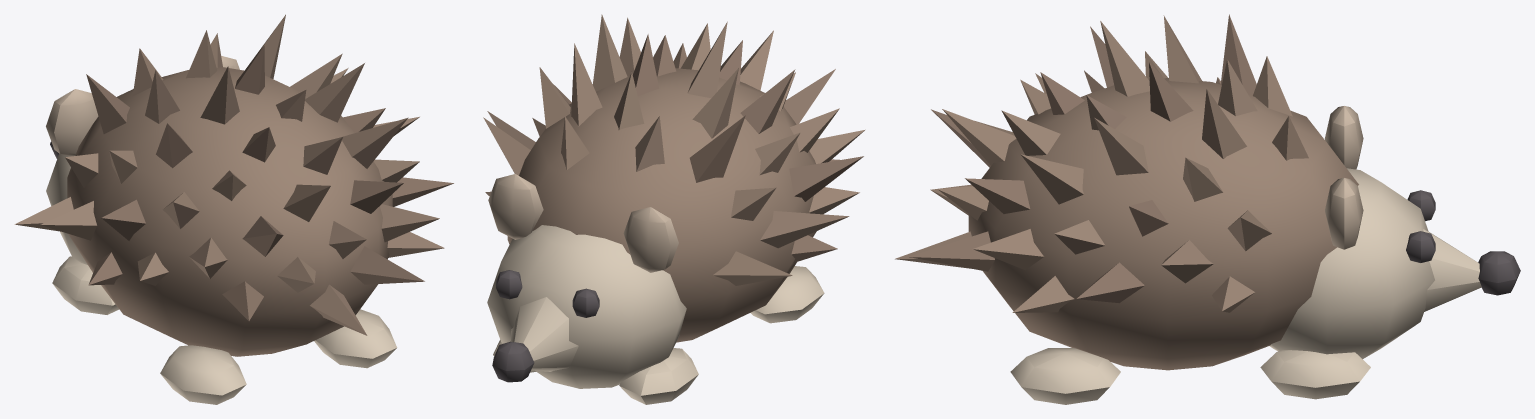
File: hedgehog.gltf
3 renders of one model, left to right at view 1: azimuth 30°, elevation 25°; view 2: azimuth 150°, elevation 25°; view 3: azimuth 270°, elevation 25°, orthographic. The views are drawn at different scales.
Visible parts, largest first — view 1: hedgehog; view 2: hedgehog; view 3: hedgehog.
Boxes of the visible parts, x1,y1,x2,y2 form: hedgehog: (14, 14, 453, 404); hedgehog: (483, 14, 865, 404); hedgehog: (895, 14, 1520, 404).
Size of the model in its own units: 0.8071 by 0.6273 by 1.1.
